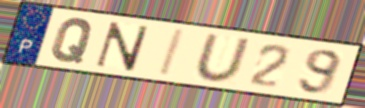2: (247, 43, 292, 90)
9: (296, 48, 345, 95)
I: (156, 27, 188, 78)
N: (92, 20, 153, 73)
Q: (49, 17, 97, 65)
U: (193, 32, 253, 84)
